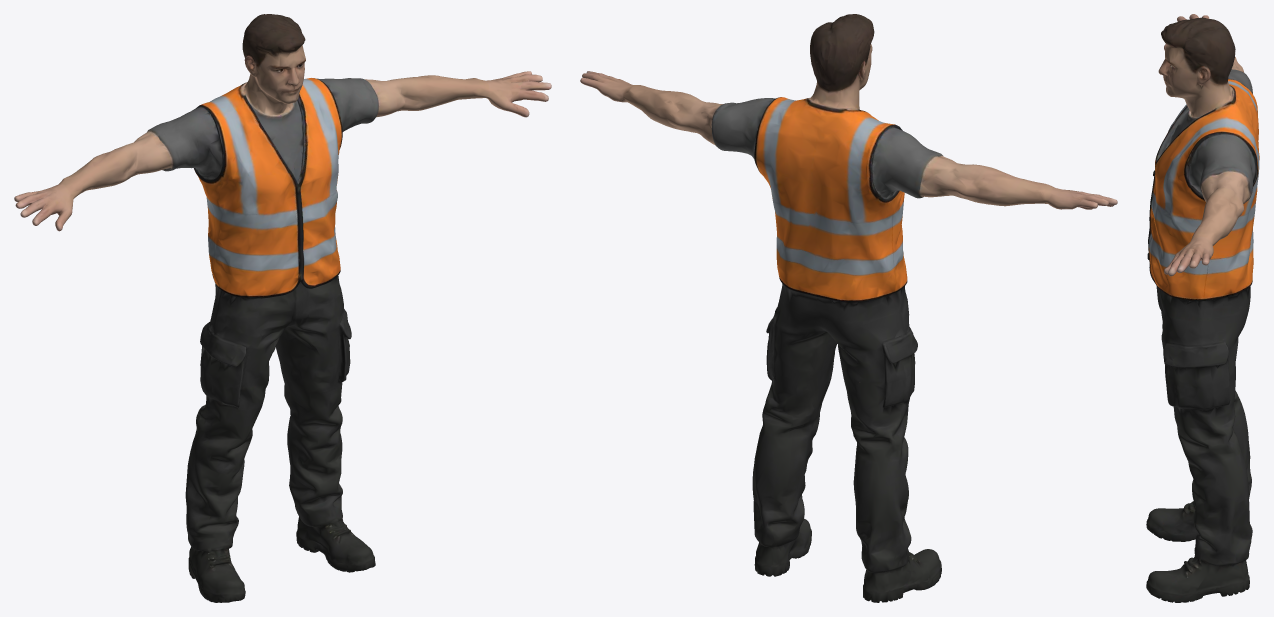
Rendered from worker.glb.
3 views of the same model, side by side, from view 1: azimuth 30°, elevation 25°; view 2: azimuth 150°, elevation 25°; view 3: azimuth 270°, elevation 25° (orthographic). The views are drawn at different scales.
Visible parts, largest first — view 1: tripo_node_3c823358-88a9-4d5e-953a-3fff5891be9a; view 2: tripo_node_3c823358-88a9-4d5e-953a-3fff5891be9a; view 3: tripo_node_3c823358-88a9-4d5e-953a-3fff5891be9a.
Part boxes in pixels (box(x1,y1,x2,y2)): tripo_node_3c823358-88a9-4d5e-953a-3fff5891be9a: box(14, 14, 551, 602); tripo_node_3c823358-88a9-4d5e-953a-3fff5891be9a: box(580, 14, 1117, 602); tripo_node_3c823358-88a9-4d5e-953a-3fff5891be9a: box(1146, 14, 1259, 602).
Size of the model in its own units: 1.75 by 1.75 by 0.3303.
Materials: 1 (1 with a texture image).
